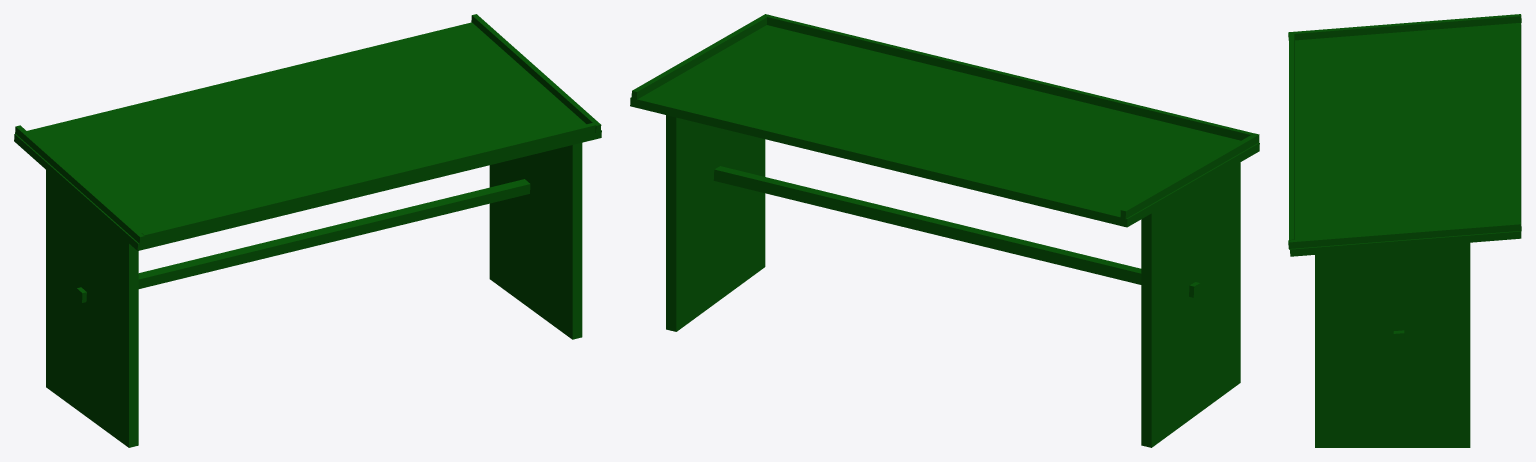
The model's file is Structure04.FBX.
The picture shows the model from 3 angles, left to right: view 1: azimuth 30°, elevation 25°; view 2: azimuth 150°, elevation 25°; view 3: azimuth 270°, elevation 25°; orthographic projection. The views are drawn at different scales.
Parts seen in each view (by area): view 1: SM_structure04_0; view 2: SM_structure04_0; view 3: SM_structure04_0.
Boxes of the visible parts, <box> form: SM_structure04_0: <box>14,14,601,447</box>; SM_structure04_0: <box>630,14,1259,447</box>; SM_structure04_0: <box>1288,14,1521,447</box>.
Size of the model in its own units: 190 by 88.65 by 94.56.
